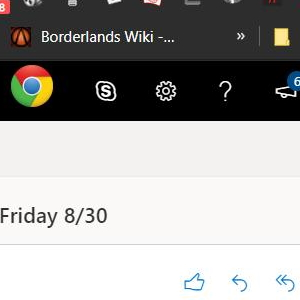chrome: (10, 64, 54, 108)
